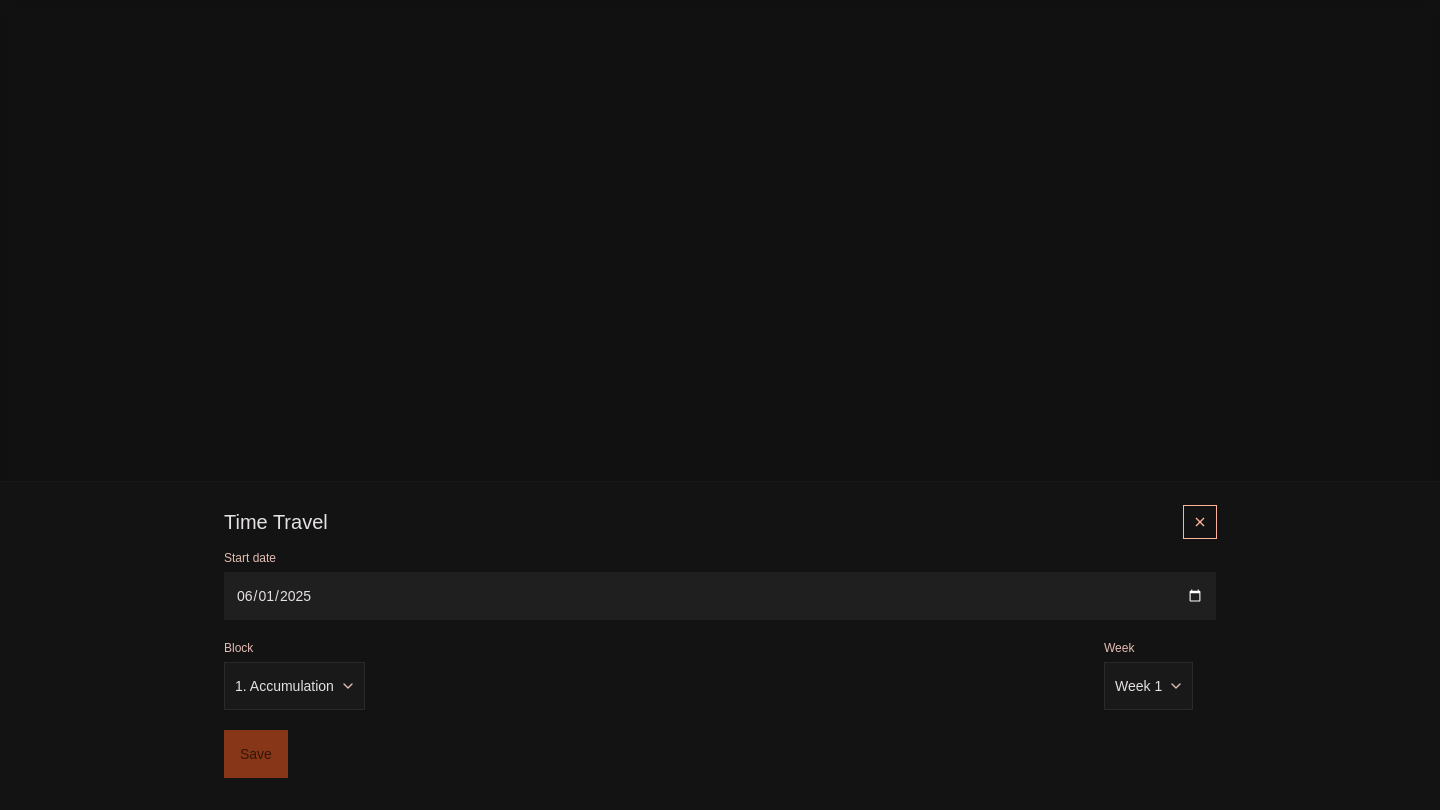
TimeTravelSheet › shows intermediate weeks with skip labels on forward jump
This screenshot has width=1440, height=810.
Click the dropdown labelled "1. Accumulation": {"x": 294, "y": 686} [224,662,365,710]
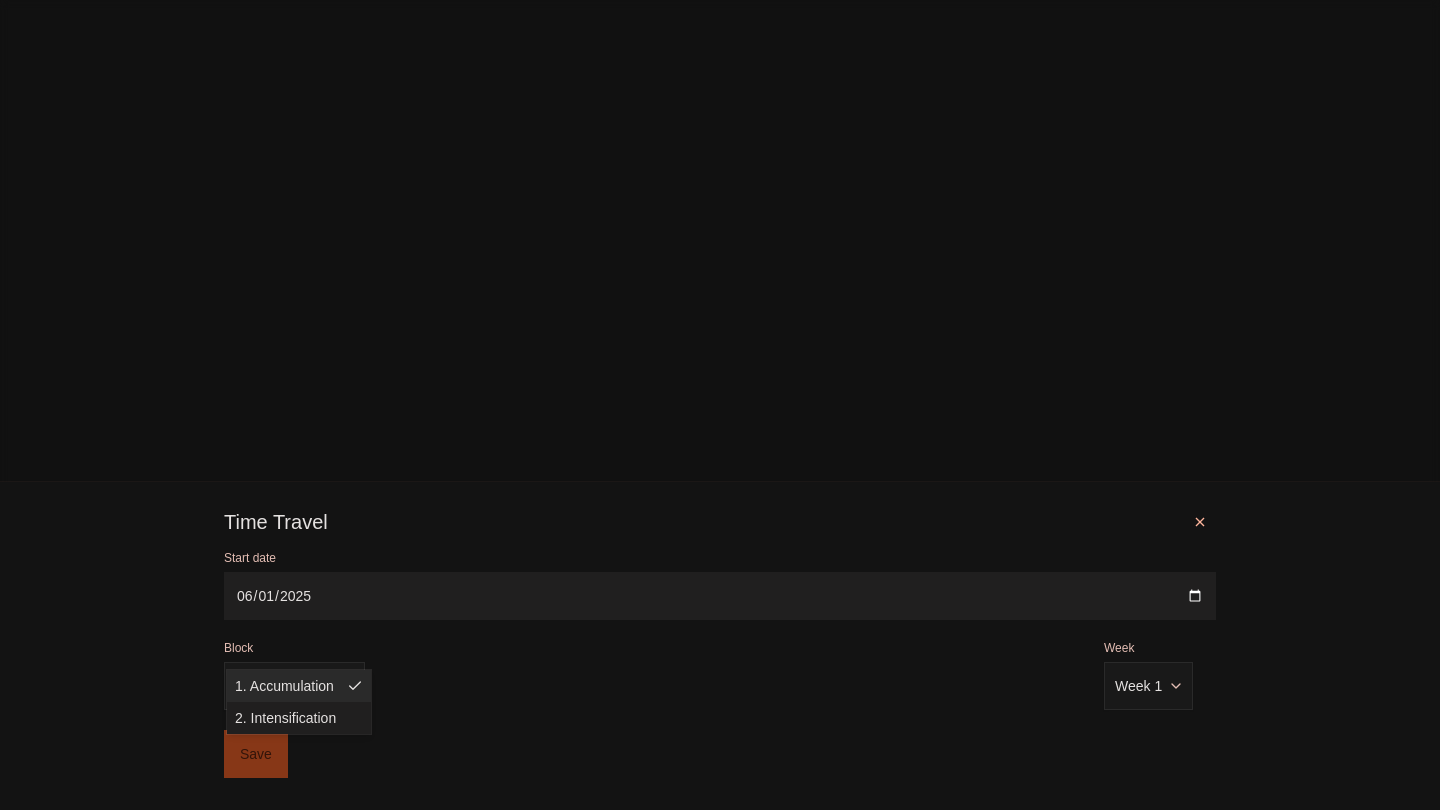
Click the option "2. Intensification": {"x": 286, "y": 718} [235,710,336,726]
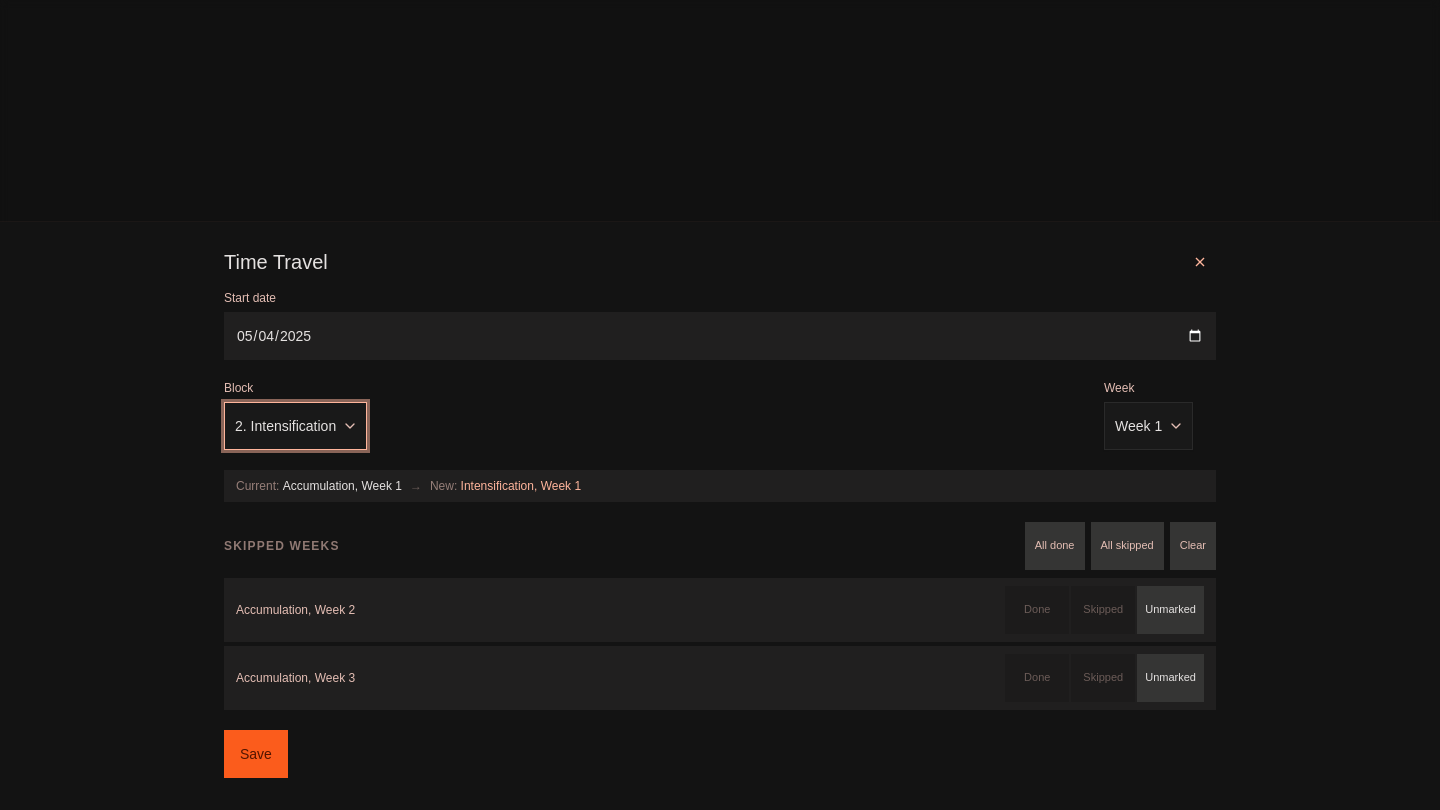
Expected: the text "Skipped weeks" is shown, [224,538,340,554]
Expected: the text "Accumulation, Week 2" is shown, [236,602,355,618]
Expected: the text "Accumulation, Week 3" is shown, [236,670,355,686]
